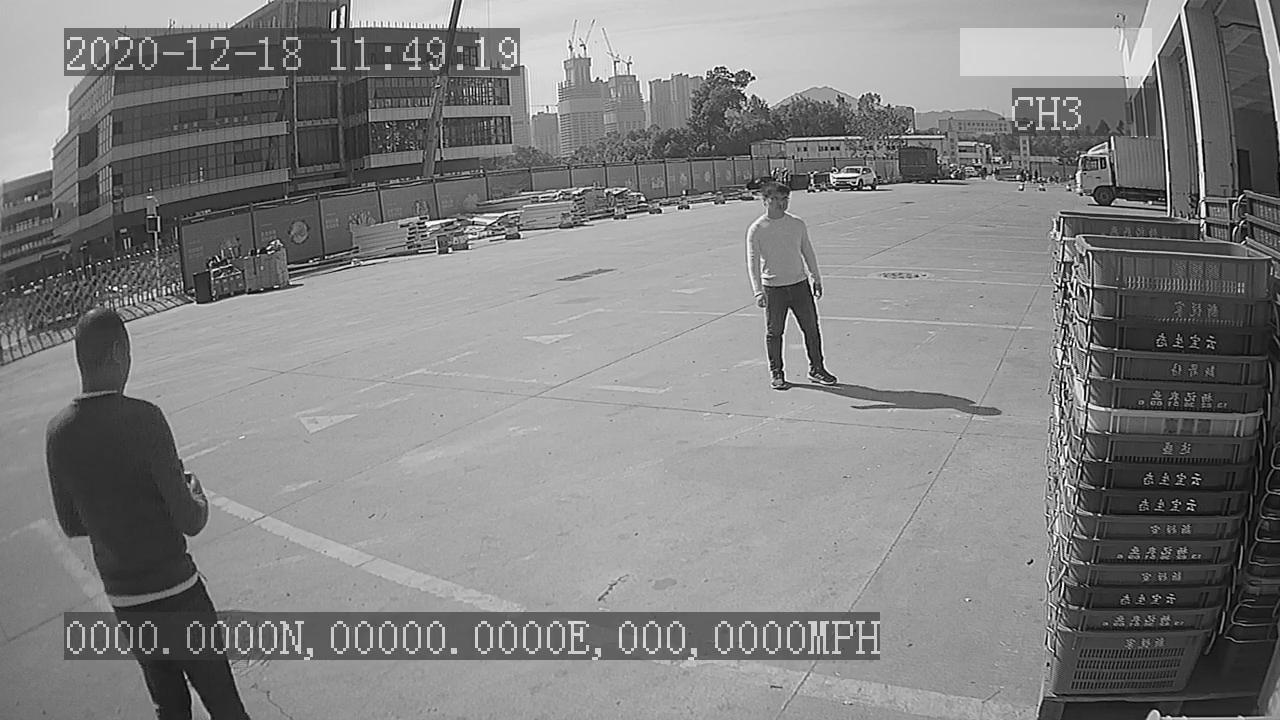person: (743, 181, 840, 390)
